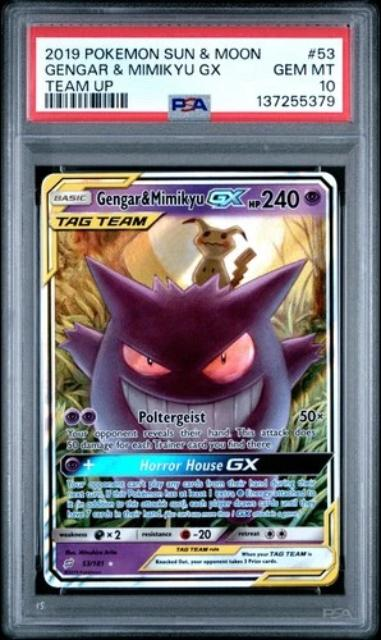Card: (37, 167, 344, 592)
Name: (93, 185, 258, 212)
